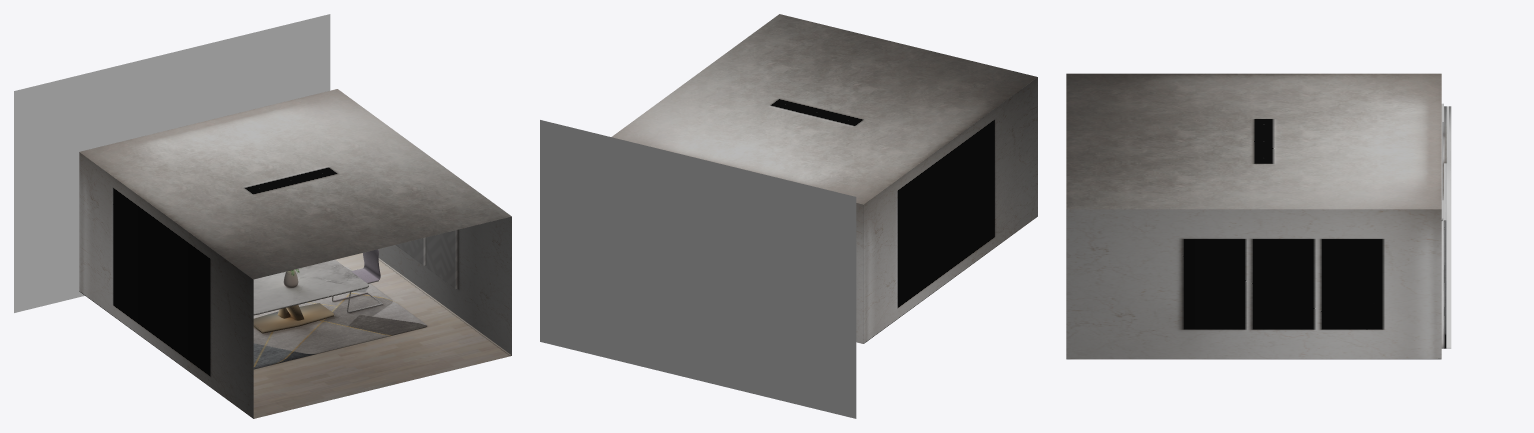
Rendered from dining-room.obj.
3 renders of one model, left to right at view 1: azimuth 30°, elevation 25°; view 2: azimuth 150°, elevation 25°; view 3: azimuth 270°, elevation 25°, orthographic. The views are drawn at different scales.
Parts seen in each view (by area): view 1: Roof, Backdrop, Walls, Modern_Dining_Room, Carpet, DiningTable, Paintings; view 2: Backdrop, Roof, Walls; view 3: Walls, Roof, DoorFrame.
Boxes of the visible parts, box(x1,y1,x2,y2) form: Roof: box(80, 89, 511, 279); Backdrop: box(14, 14, 330, 312); Walls: box(79, 152, 511, 418); Modern_Dining_Room: box(253, 253, 511, 418); Carpet: box(253, 267, 427, 369); DiningTable: box(253, 249, 382, 333); Paintings: box(396, 230, 457, 288); Backdrop: box(540, 120, 856, 418); Roof: box(611, 14, 1037, 204); Walls: box(856, 77, 1037, 343); Walls: box(1066, 209, 1441, 359); Roof: box(1066, 73, 1441, 209); DoorFrame: box(1441, 106, 1451, 348).
Size of the model in its own units: 39.95 by 26.8 by 46.07.
Materials: 17 (15 with a texture image).
